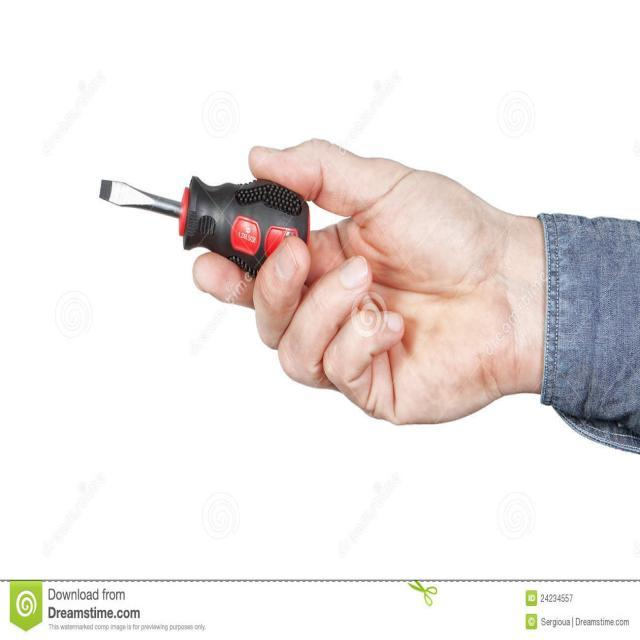screwdriver: (93, 170, 311, 282)
